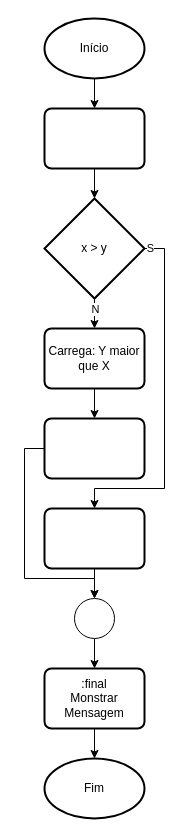
The diagram is 190 pixels wide and 836 high, and some of its shapes have lost their labels. Here are the shapes that lost their labels. From the top down, the centre of each, then its label:
At [94,138]: "Definir x e y com valores inteiros".
At [94,448]: "GOTO :final".
At [94,538]: "Carrega: X maior que Y".
